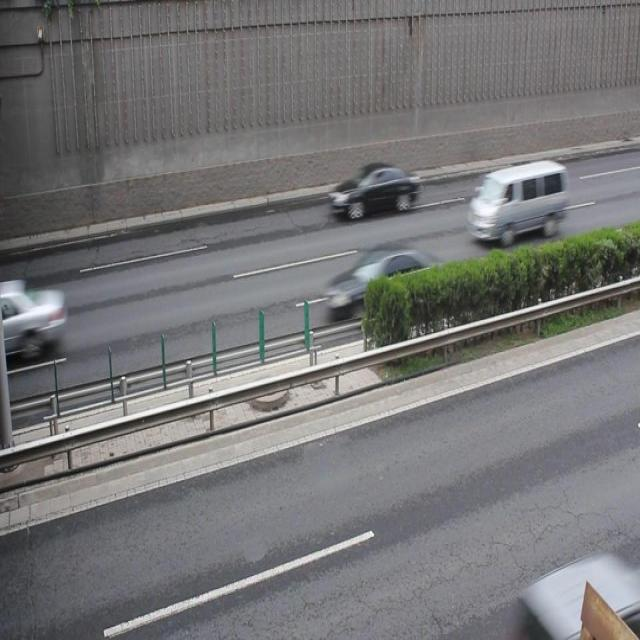car: (511, 547, 639, 640), (323, 244, 445, 324), (328, 159, 420, 220)
truck: (467, 159, 567, 245)
